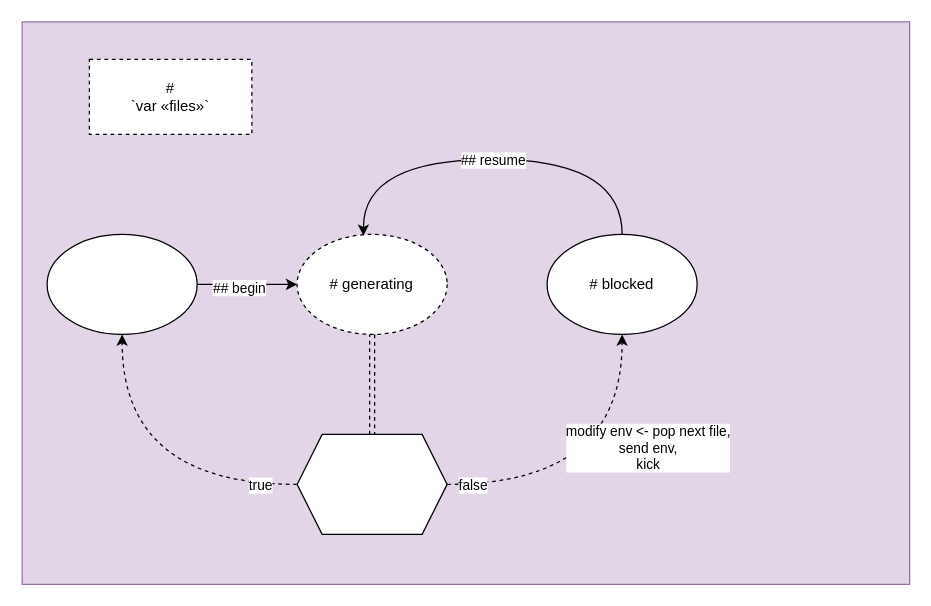
This 931x606 diagram has some shape labels left out. Each missing label, with the centre of its shape:
# idle: [121,283]
files list empty?: [371,483]
